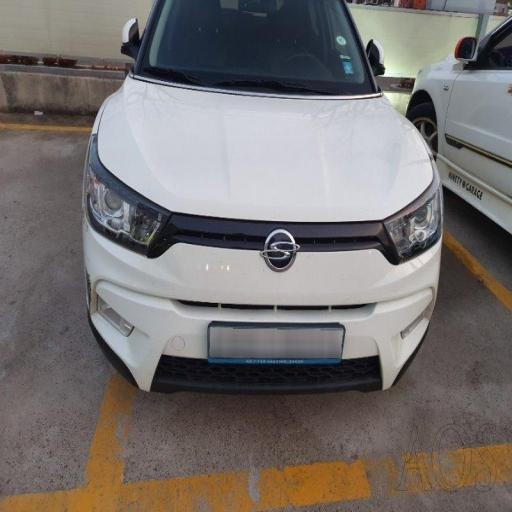normal: (65, 12, 468, 444)
